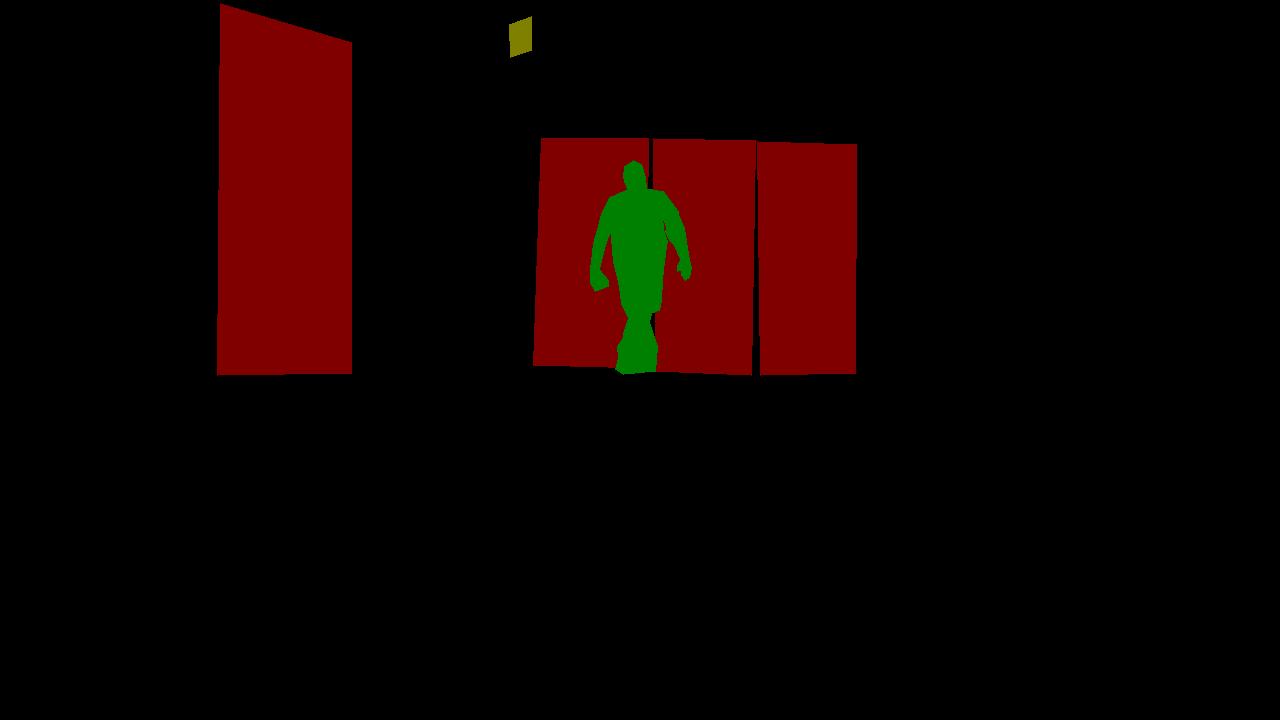door: (217, 3, 351, 375), (533, 138, 648, 368), (653, 138, 755, 375), (757, 141, 856, 375)
person: (590, 160, 691, 374)
sign: (509, 16, 531, 57)
